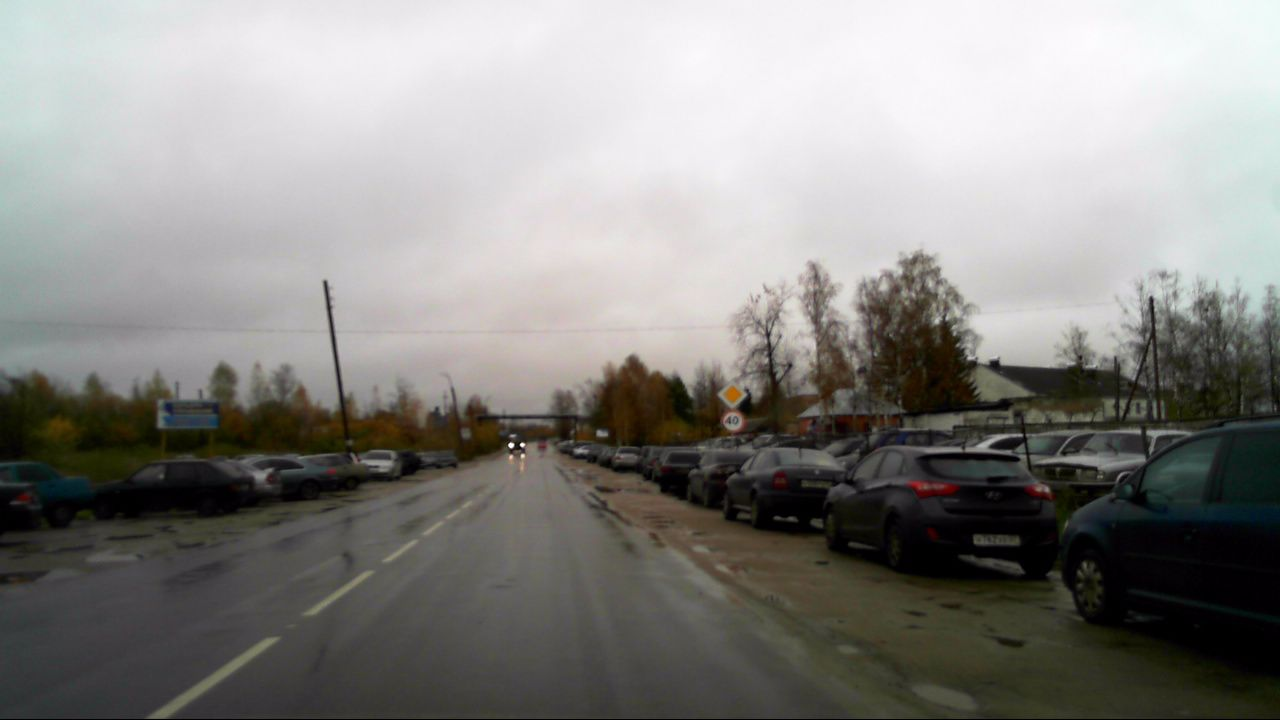speed_warning_40: (720, 409, 746, 435)
